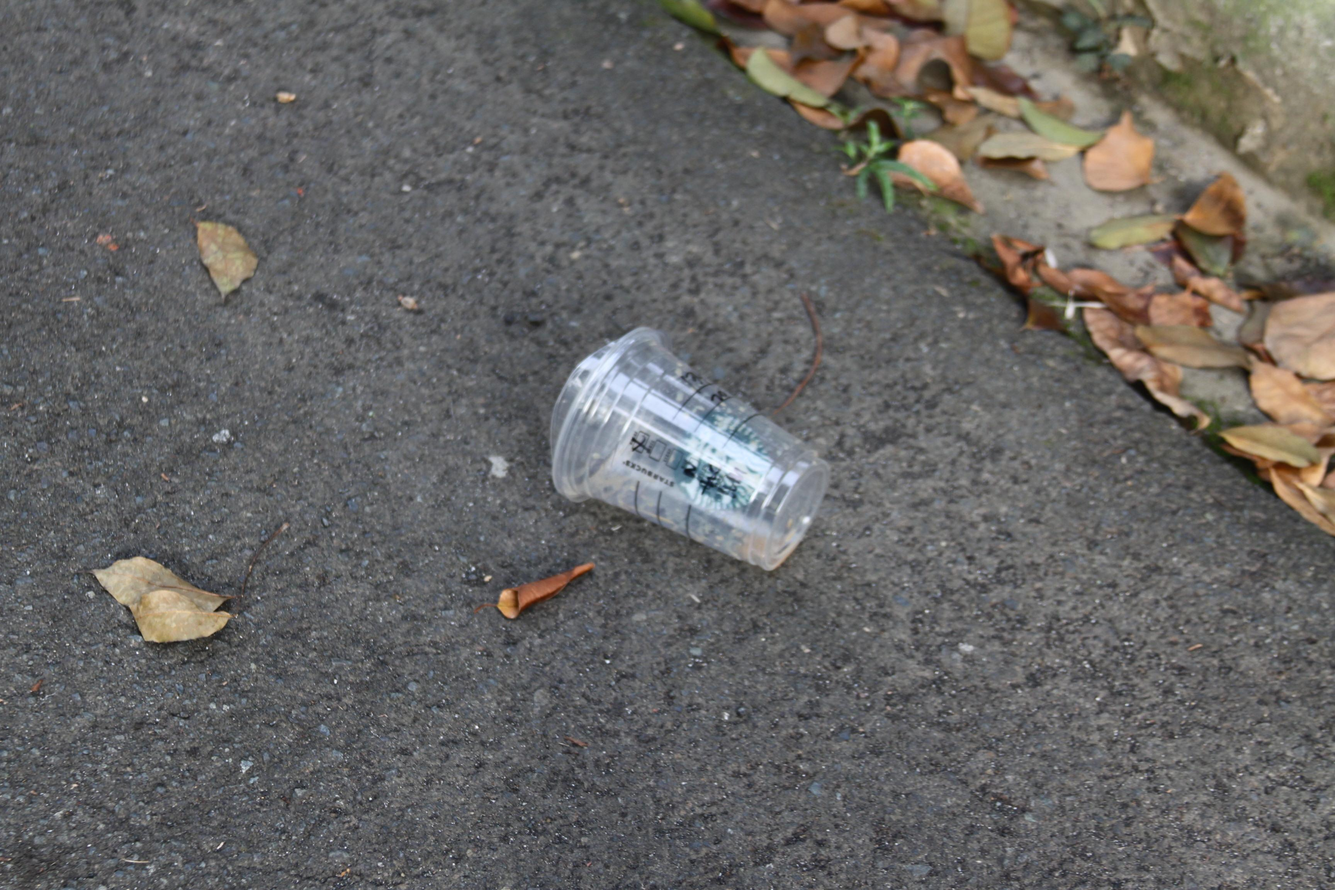Plastic: (547, 323, 832, 574)
